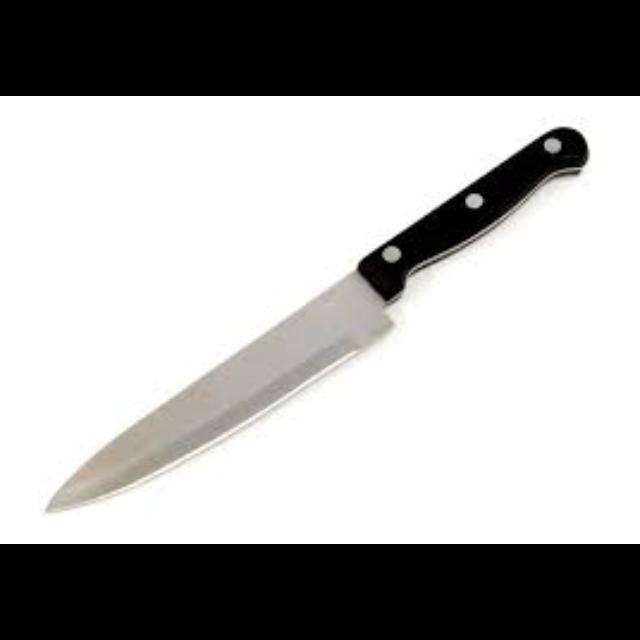knife: (43, 124, 589, 514)
